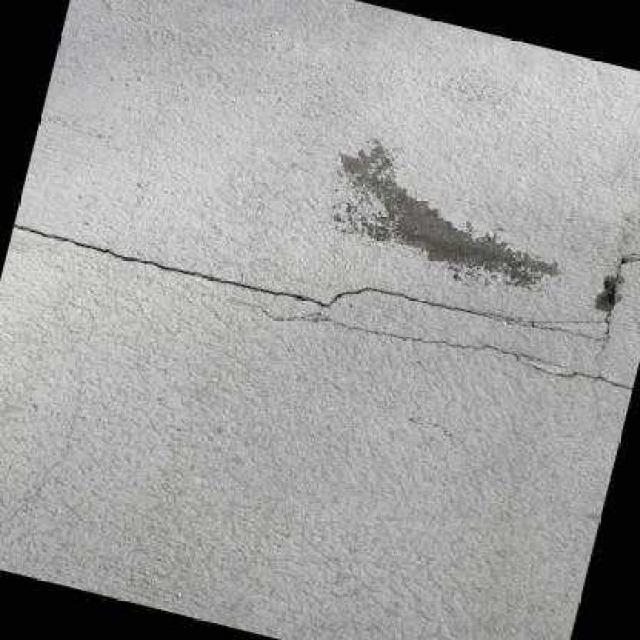D00: (12, 220, 503, 323), (280, 309, 634, 393)
